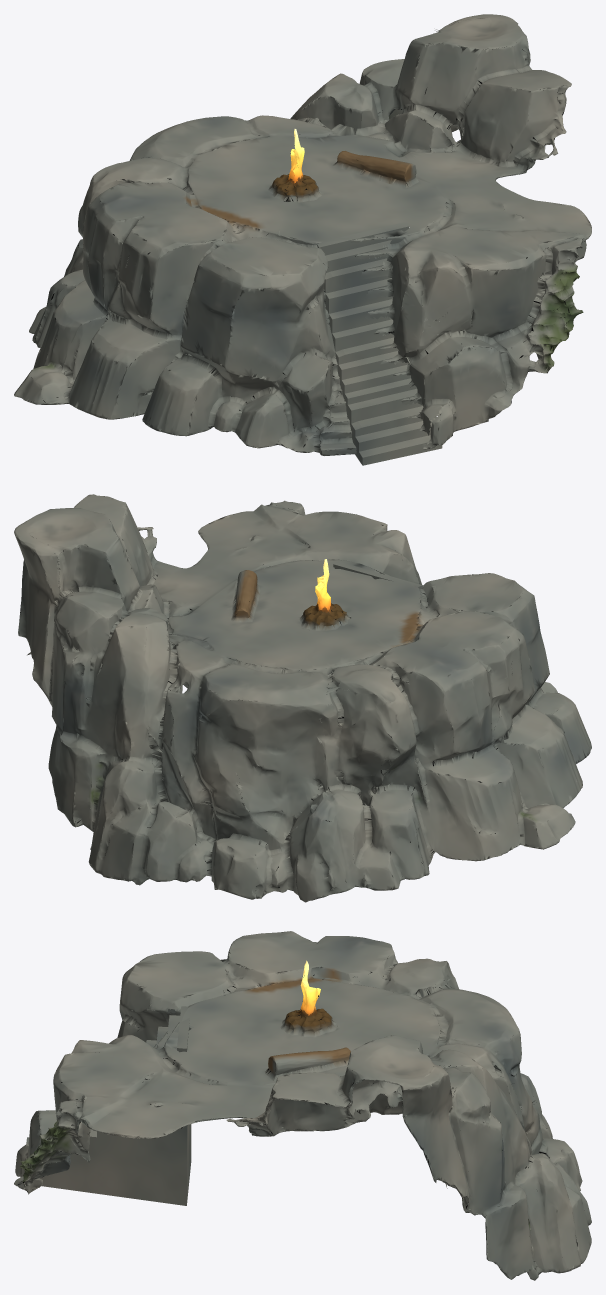
Rendered from rock_forest_wash.glb.
The picture shows the model from 3 angles, top to bottom: view 1: azimuth 30°, elevation 25°; view 2: azimuth 150°, elevation 25°; view 3: azimuth 270°, elevation 25°; orthographic projection. The views are drawn at different scales.
Visible parts, largest first — view 1: Wash_Delivery_Rocks, Wash_Delivery_Stairs; view 2: Wash_Delivery_Rocks; view 3: Wash_Delivery_Rocks, Wash_Delivery_Stairs.
Part boxes in pixels (x1,y1,x2,y2): Wash_Delivery_Rocks: (14,14,591,455); Wash_Delivery_Stairs: (317,221,442,465); Wash_Delivery_Rocks: (14,494,591,902); Wash_Delivery_Rocks: (14,931,591,1280); Wash_Delivery_Stairs: (26,1006,191,1205).
Bounding box in the file's own units: 1 × 0.4813 × 0.9332.
5 materials, 5 textured.
